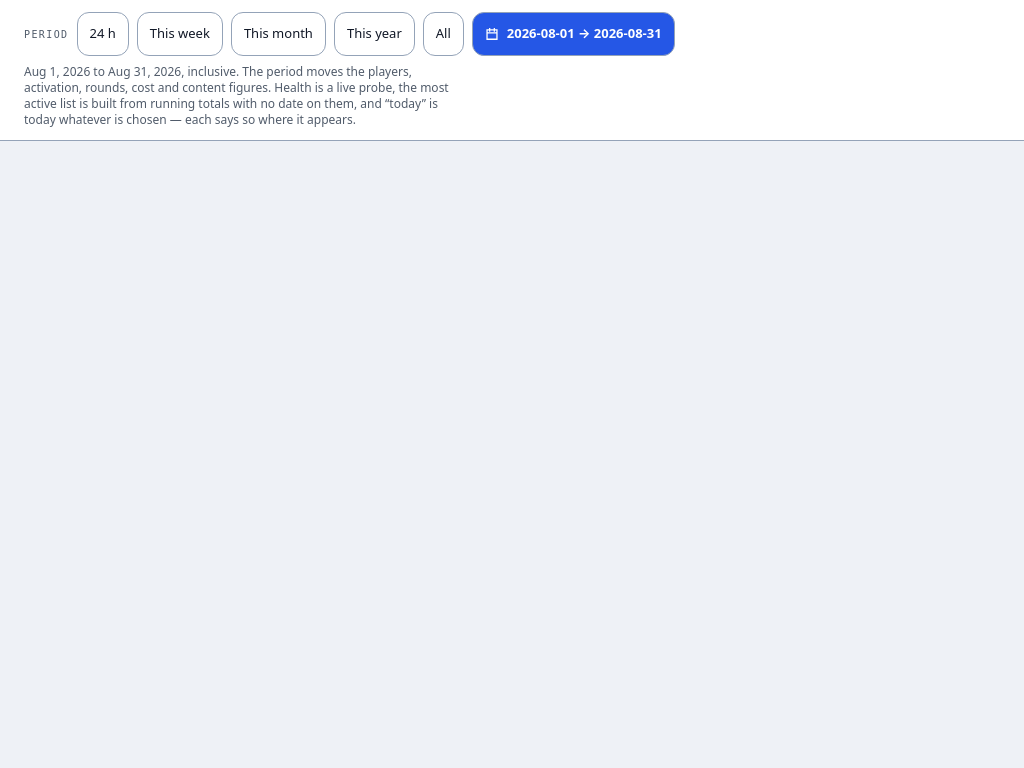
K.2 — the custom period › counts both ends of the pair it is about to ask for
Click the button "2026-08-01 → 2026-08-31": [573, 34] box left=472, top=12, right=675, bottom=56
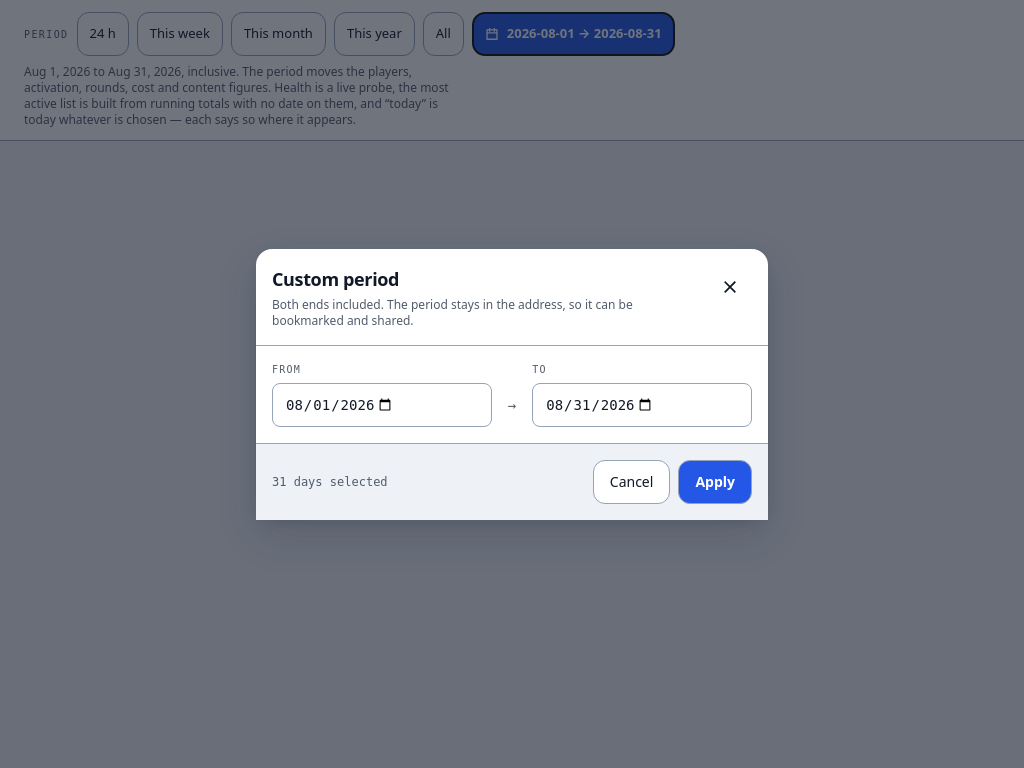
Check: the text "31 days selected" is shown, box left=272, top=474, right=388, bottom=490
